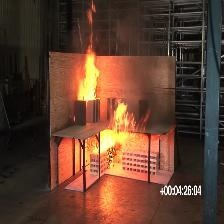fire: (68, 1, 114, 115), (89, 92, 141, 180)
